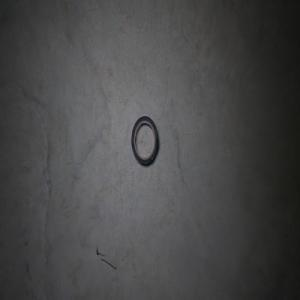Tape: (131, 115, 159, 166)
